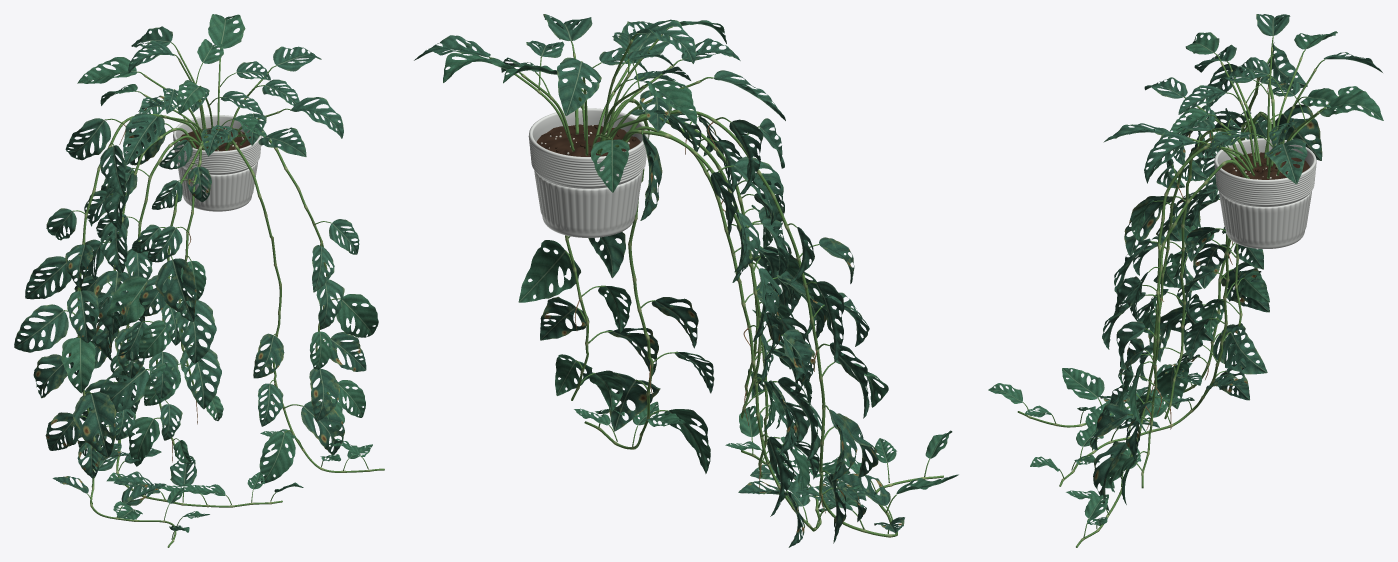
Rendered from monstera-C25tqdiE.glb.
3 views of the same model, side by side, from view 1: azimuth 30°, elevation 25°; view 2: azimuth 150°, elevation 25°; view 3: azimuth 270°, elevation 25° (orthographic). The views are drawn at different scales.
Parts seen in each view (by area): view 1: pot, leaf_hang_060, leaf_hang_057, leaf_hang_102, leaf_hang_085, leaf_hang_087, leaf_hang_058, leaf_hang_074, leaf_up_002, leaf_hang_046, leaf_hang_055, stems_arm_floor_1 (+63 smaller); view 2: pot, stems_arm_floor_2, leaf_hang_074, stems_arm_floor_0, leaf_up_004, soil, stems_arm_floor_1, leaf_hang_045, leaf_up_020, leaf_hang_076, stems_arm_free_5, leaf_hang_046 (+33 smaller); view 3: pot, stems_arm_floor_0, stems_arm_free_3, stems_arm_floor_1, leaf_hang_030, stems_arm_floor_6, stems_arm_floor_2, leaf_hang_090, leaf_up_014, leaf_hang_102, leaf_up_008, leaf_up_010 (+26 smaller).
Boxes of the visible parts, box(x1,y1,x2,y2) form: pot: box(173, 115, 262, 211); leaf_hang_060: box(72, 392, 116, 457); leaf_hang_057: box(14, 304, 68, 352); leaf_hang_102: box(155, 258, 196, 321); leaf_hang_085: box(175, 300, 216, 363); leaf_hang_087: box(180, 346, 221, 409); leaf_hang_058: box(61, 338, 95, 393); leaf_hang_074: box(335, 294, 378, 337); leaf_up_002: box(123, 113, 164, 165); leaf_hang_046: box(259, 431, 295, 483); leaf_hang_055: box(25, 256, 72, 299); stems_arm_floor_1: box(225, 140, 384, 472); pot: box(528, 108, 648, 237); stems_arm_floor_2: box(599, 110, 943, 537); leaf_hang_074: box(518, 240, 580, 302); stems_arm_floor_0: box(615, 126, 824, 531); leaf_up_004: box(557, 57, 601, 115); soil: box(536, 124, 640, 156); stems_arm_floor_1: box(584, 98, 677, 449); leaf_hang_045: box(609, 372, 660, 431); leaf_up_020: box(590, 139, 629, 192); leaf_hang_076: box(540, 296, 589, 340); stems_arm_free_5: box(621, 129, 782, 418); leaf_hang_046: box(664, 409, 710, 473); pot: box(1214, 138, 1316, 248); stems_arm_floor_0: box(1059, 120, 1258, 486); stems_arm_free_3: box(1127, 160, 1249, 488); stems_arm_floor_1: box(1076, 145, 1245, 547); leaf_hang_030: box(1221, 323, 1267, 374); stems_arm_floor_6: box(1151, 127, 1240, 429); stems_arm_floor_2: box(1017, 54, 1275, 427); leaf_hang_090: box(1271, 104, 1322, 160); leaf_up_014: box(1265, 138, 1307, 184); leaf_hang_102: box(1124, 196, 1172, 256); leaf_up_008: box(1320, 91, 1383, 120); leaf_up_010: box(1144, 132, 1199, 183).
Size of the model in its own units: 1.03 by 1.22 by 0.9576.
Materials: 12 (8 with a texture image).
